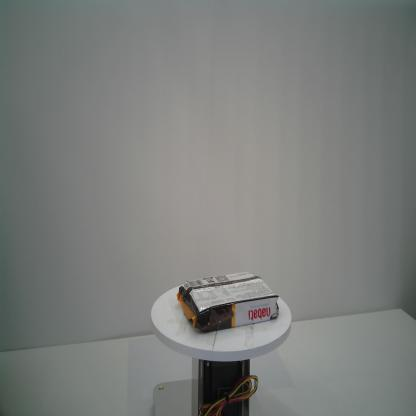Dessert: (176, 270, 281, 334)
